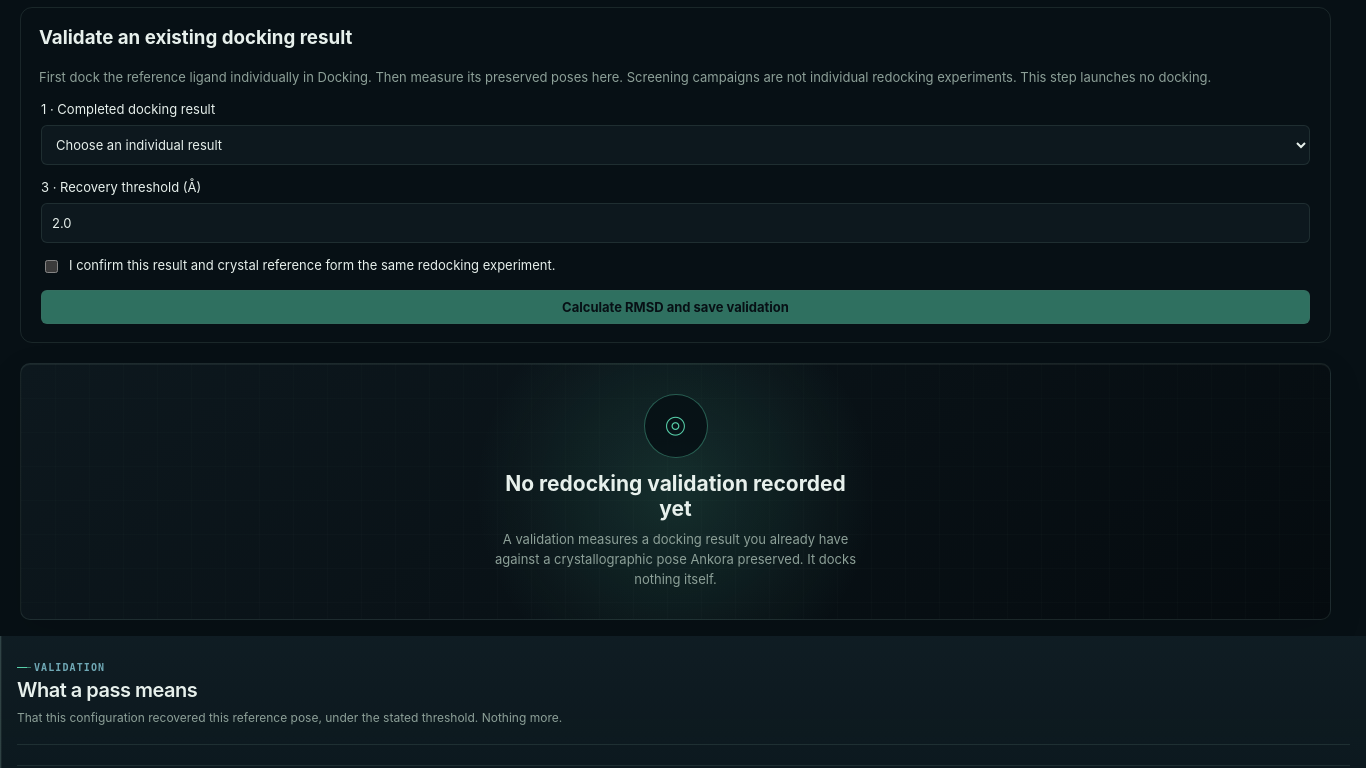
retains selections on a rejected calculation and does not retry POST automatically
The image size is (1366, 768).
(page scrolled)
Select "Test engine · RV2 · 10/20/2026, 12:00:00 PM · job-1" in the dropdown labelled "Completed docking result" at (676, 145), box [41, 125, 1310, 165]
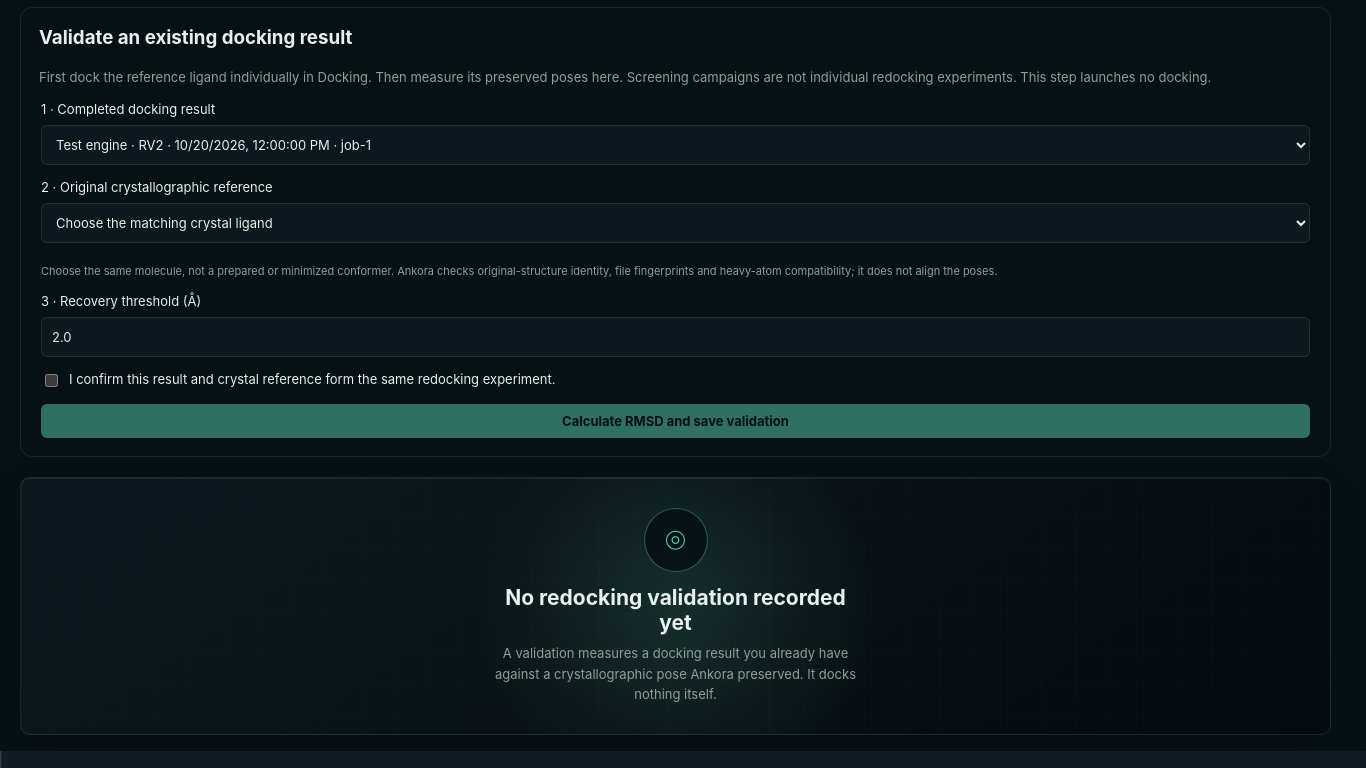
Select "RV2 · RV2 A:401 · 27 heavy atoms · crystal" in the dropdown labelled "crystallographic reference" at (676, 223), box [41, 203, 1310, 243]
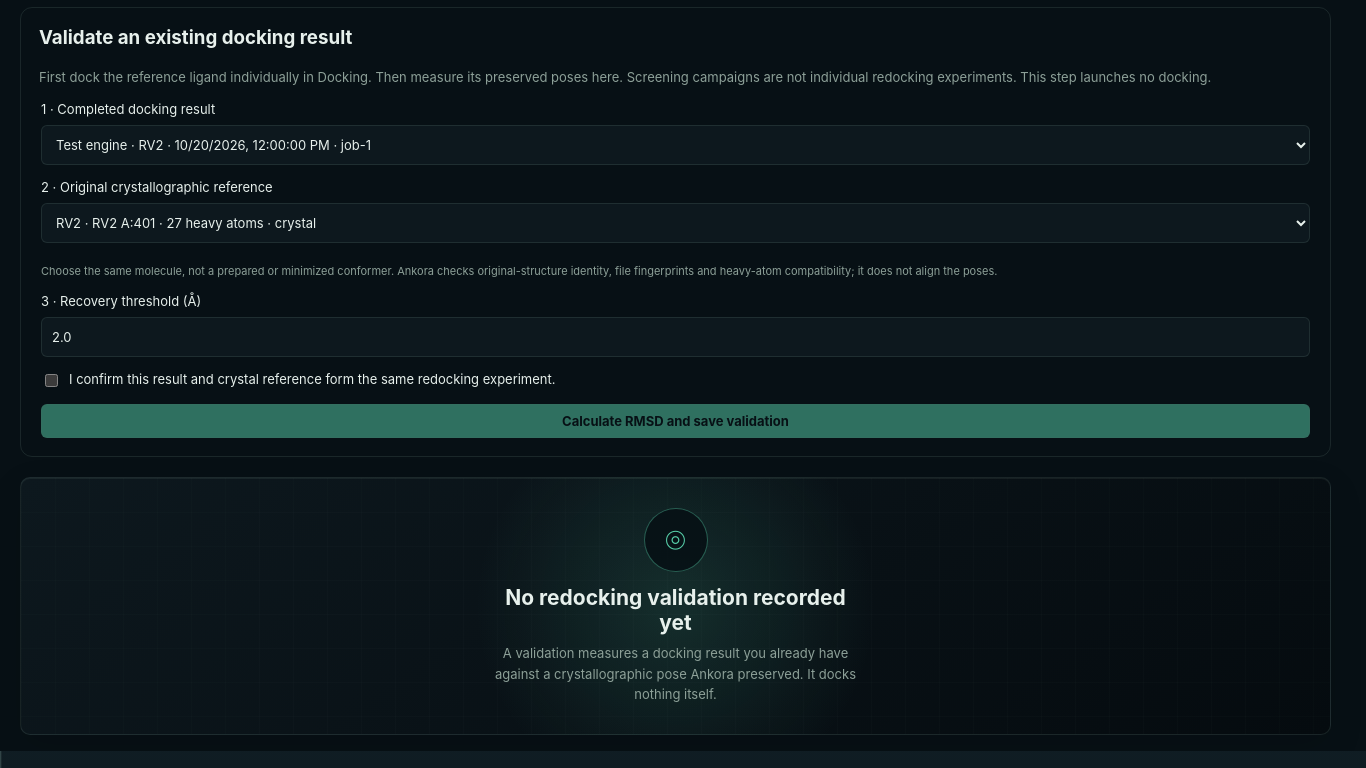
Click the checkbox at (52, 381), box [45, 374, 58, 387]
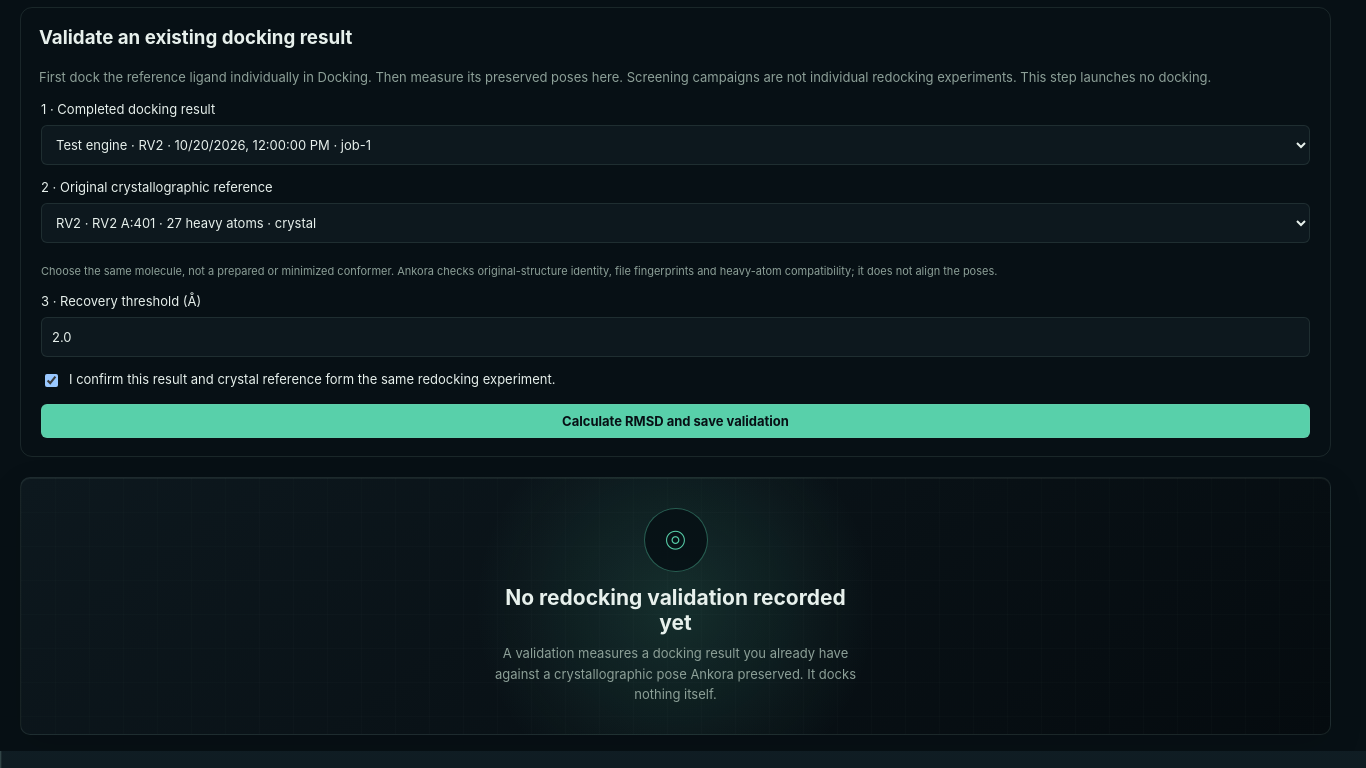
Click the button "Calculate RMSD and save validation" at (676, 421), box [41, 404, 1310, 438]
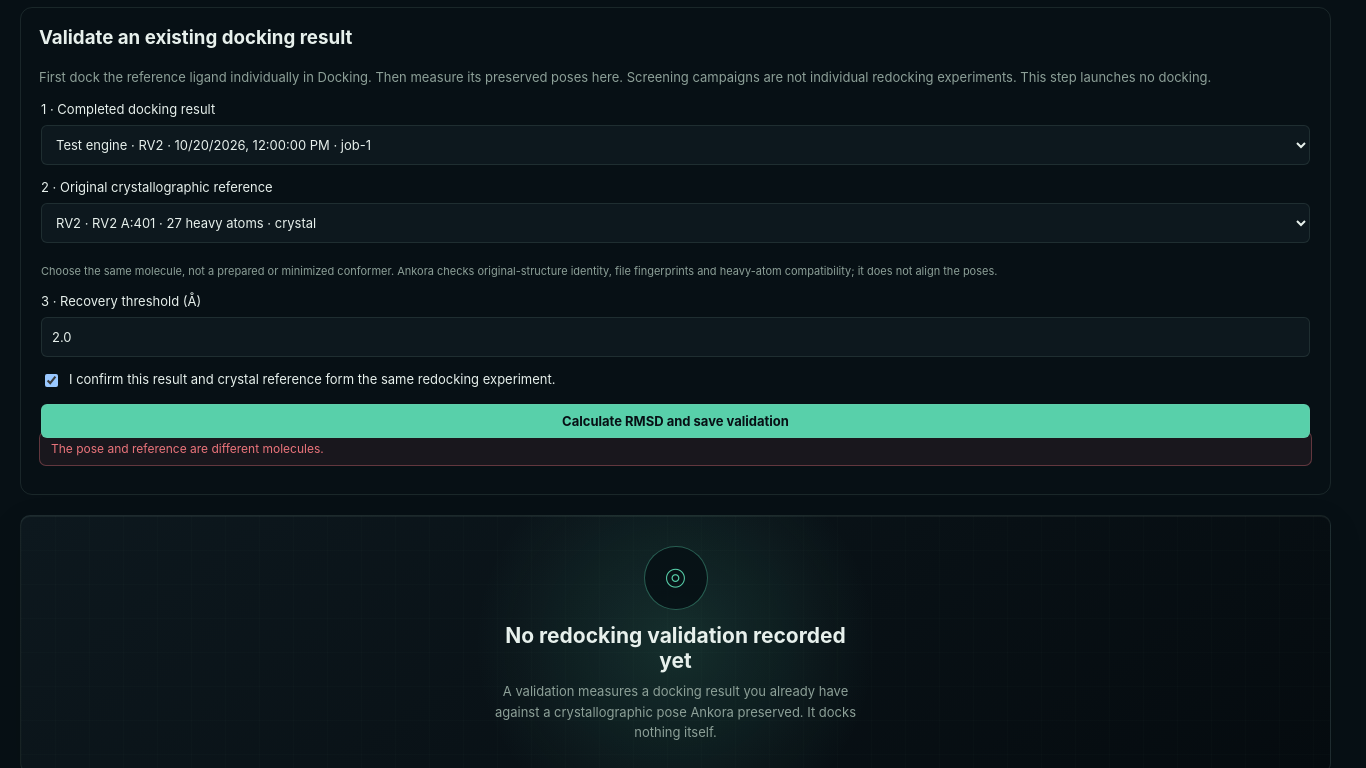
Now the message shows "different molecules", box [51, 441, 324, 456]
